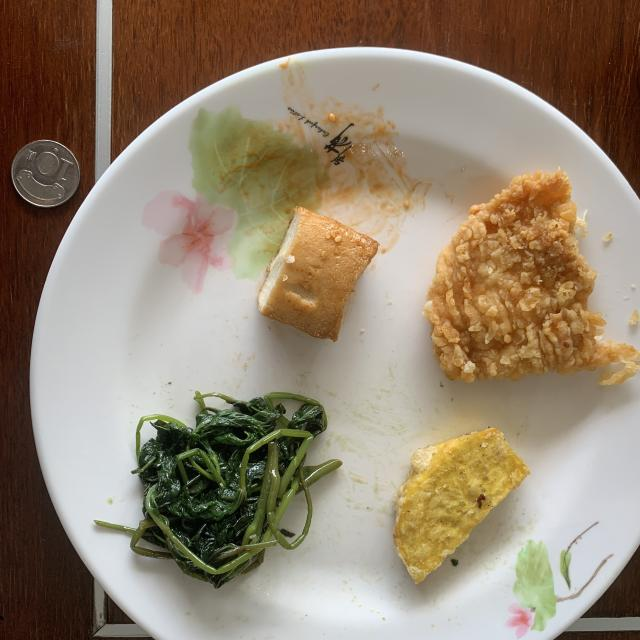coin: (11, 140, 80, 208)
creamy tofu: (259, 206, 379, 341)
fried chicken cutlet: (424, 170, 640, 384)
sweet potato leaves: (95, 392, 341, 588)
